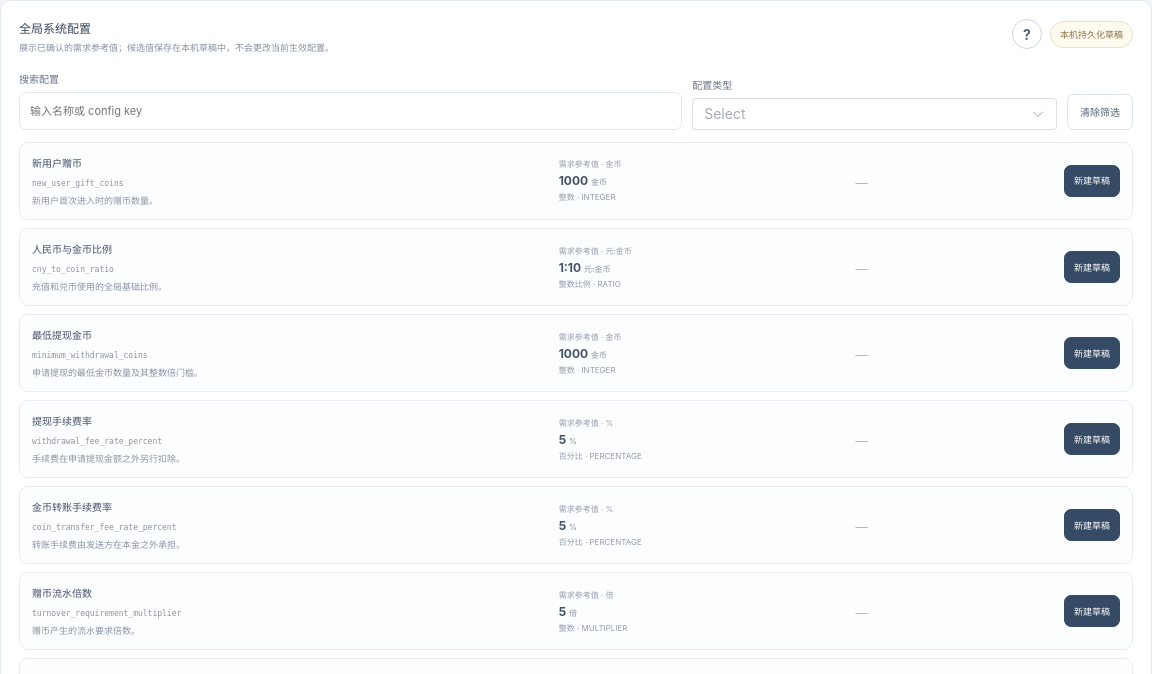
Test: SystemConfigWorkspace › shows validation feedback and leaves the reference unchanged for invalid input
This screenshot has width=1152, height=674.
Click the button "新建草稿" in the row of "手续费在申请提现金额之外另行扣除。" at (1092, 439), box [1064,423,1120,455]
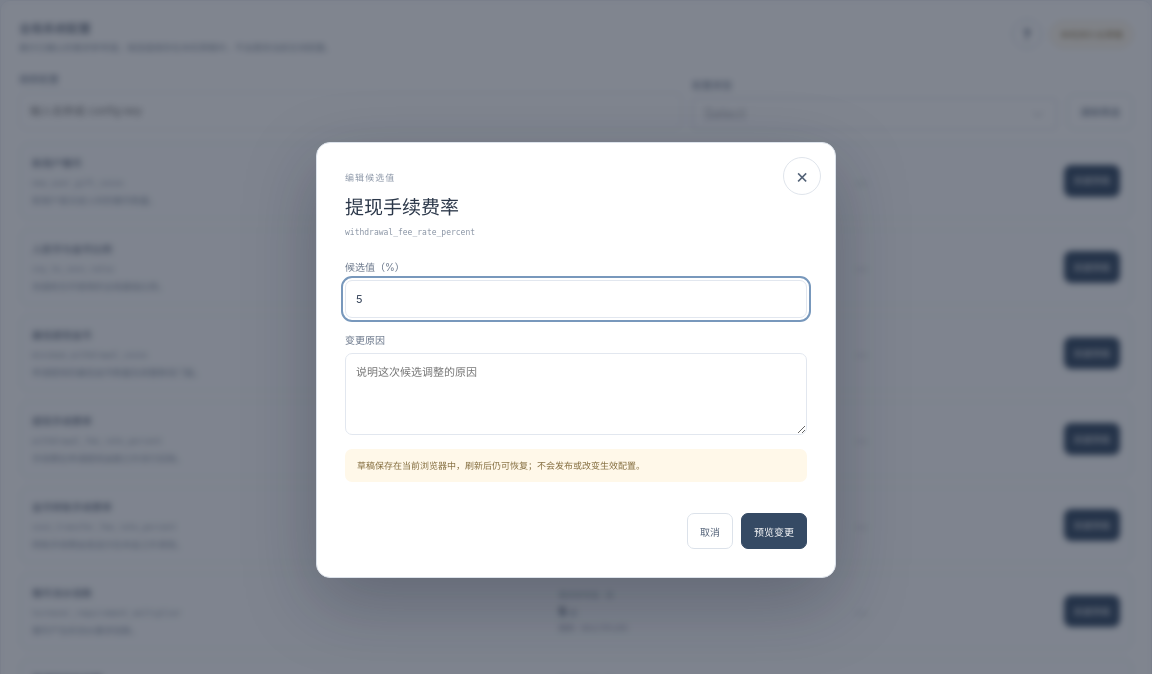
Replace the text in the field labelled "候选值（%）" with "101" at (576, 298), box [345,280,807,318]
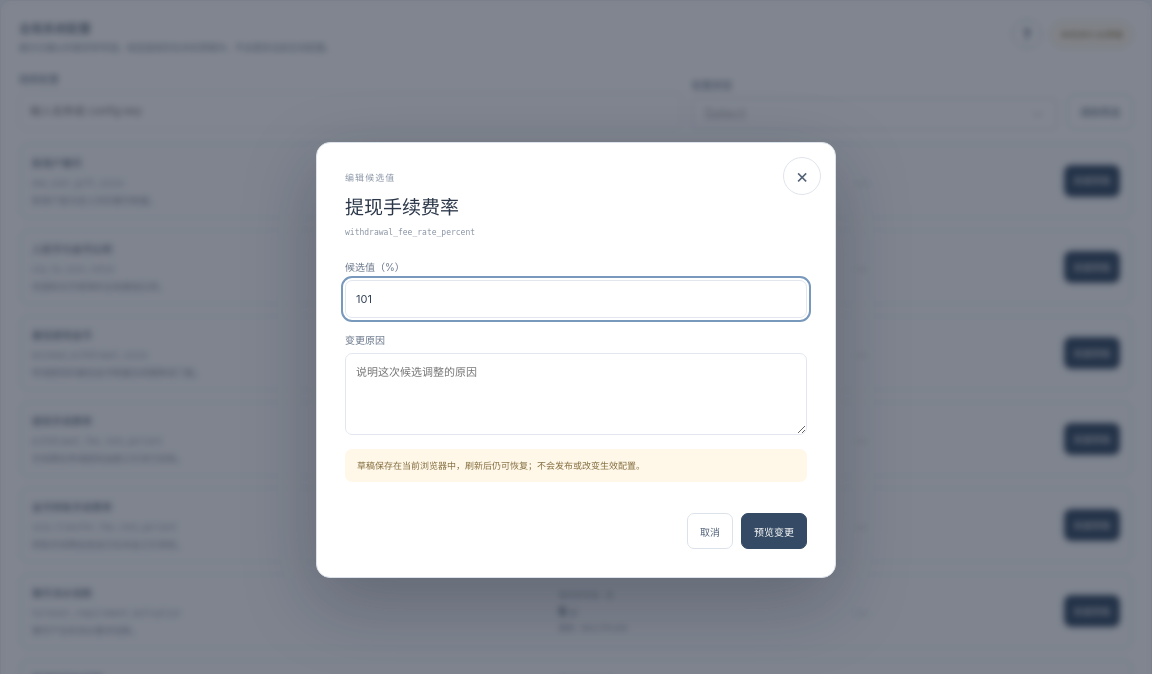
Type "测试无效费率" into the text box with id "config-reason" at (576, 394), box [345,352,807,434]
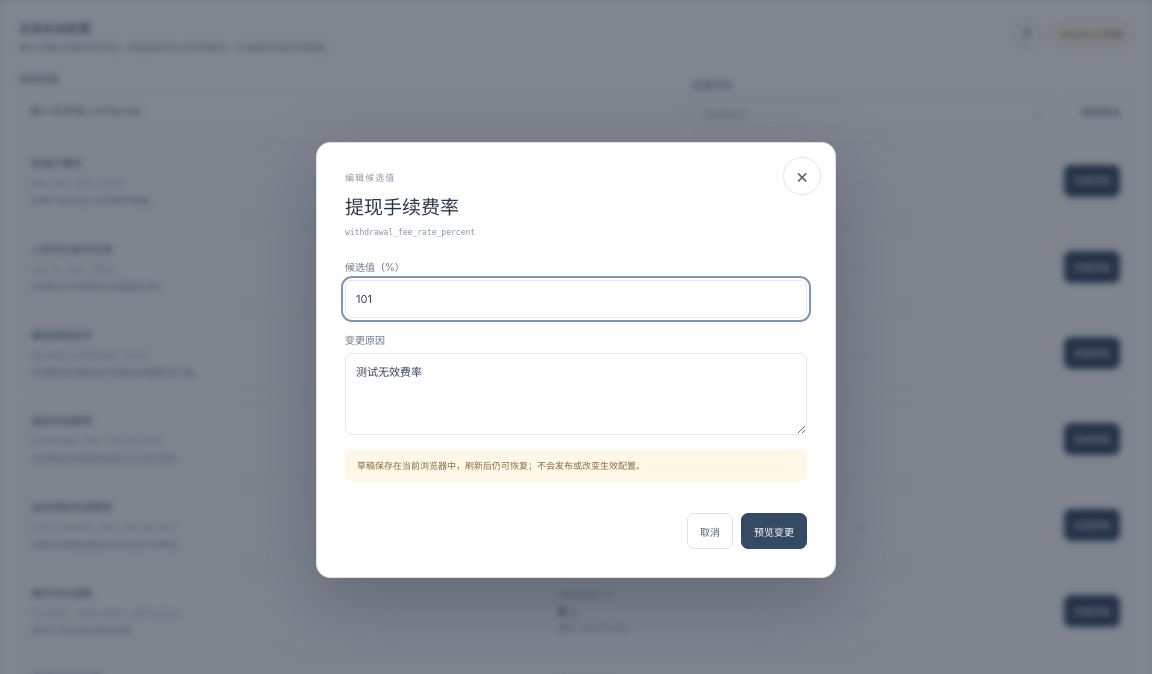
Click the submit button at (774, 532), box [741,514,807,550]
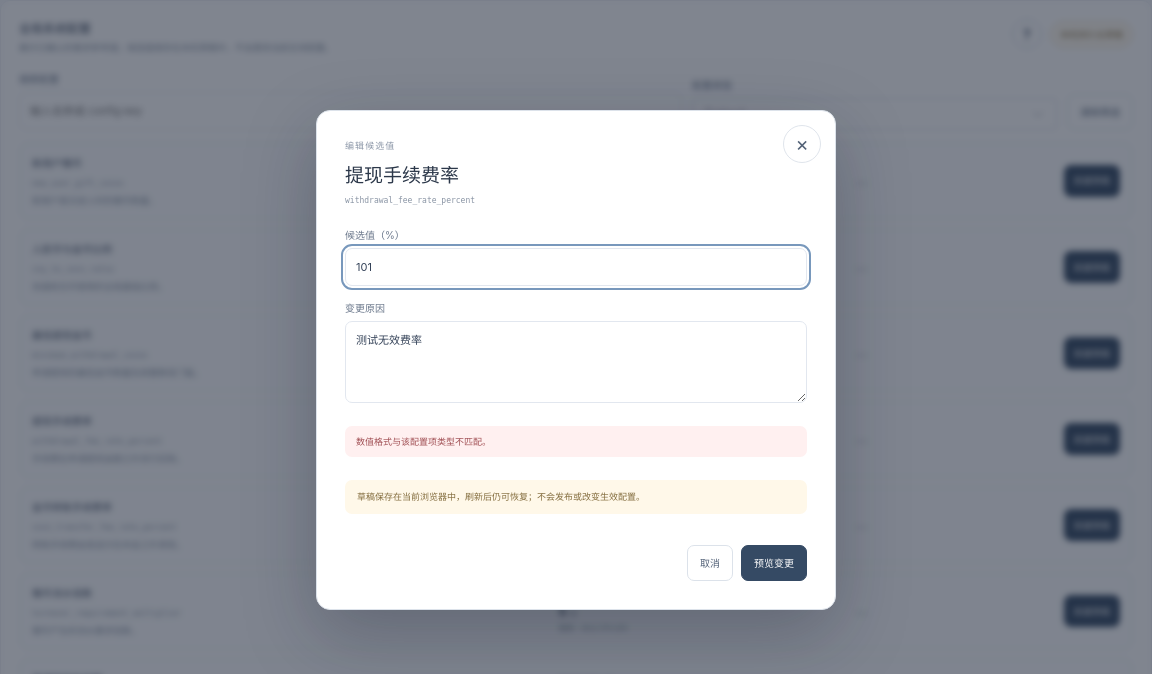
Expected: the message "数值格式与该配置项类型不匹配。" is shown, [345,426,807,457]
